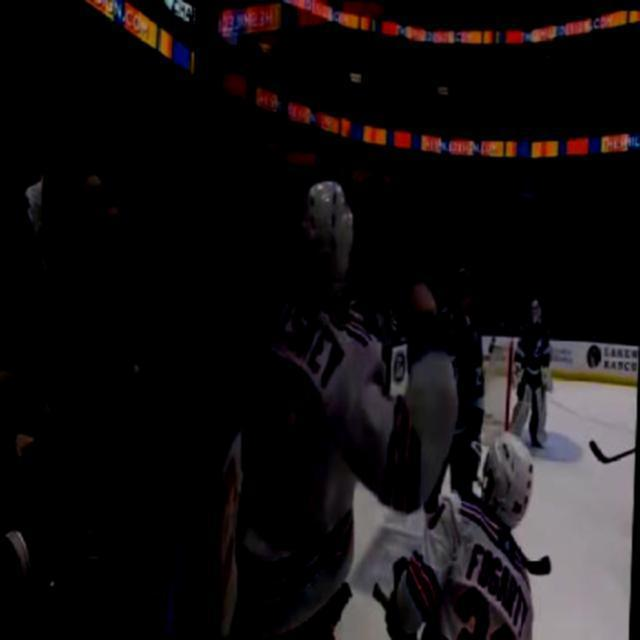fight: (222, 174, 464, 638)
non-fight: (5, 132, 89, 410), (502, 292, 560, 446)
